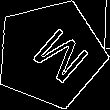M_SW: (16, 20, 85, 88)
